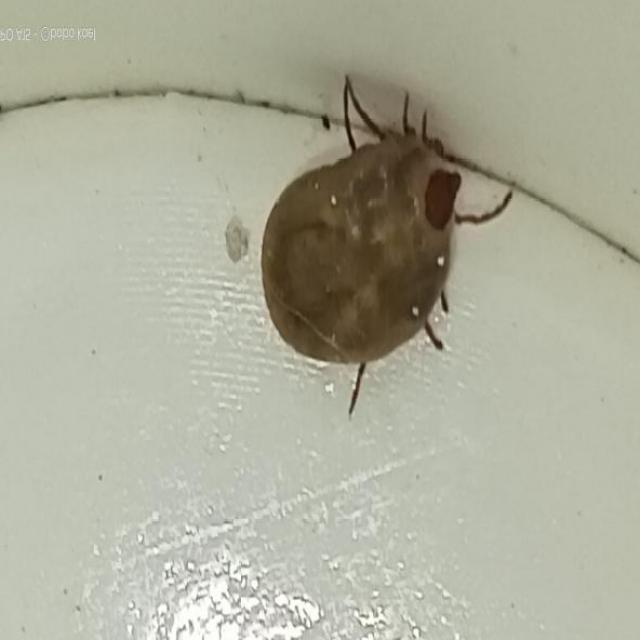Rhipicephalus Sanguineus-F-Fed: (260, 74, 511, 396)
